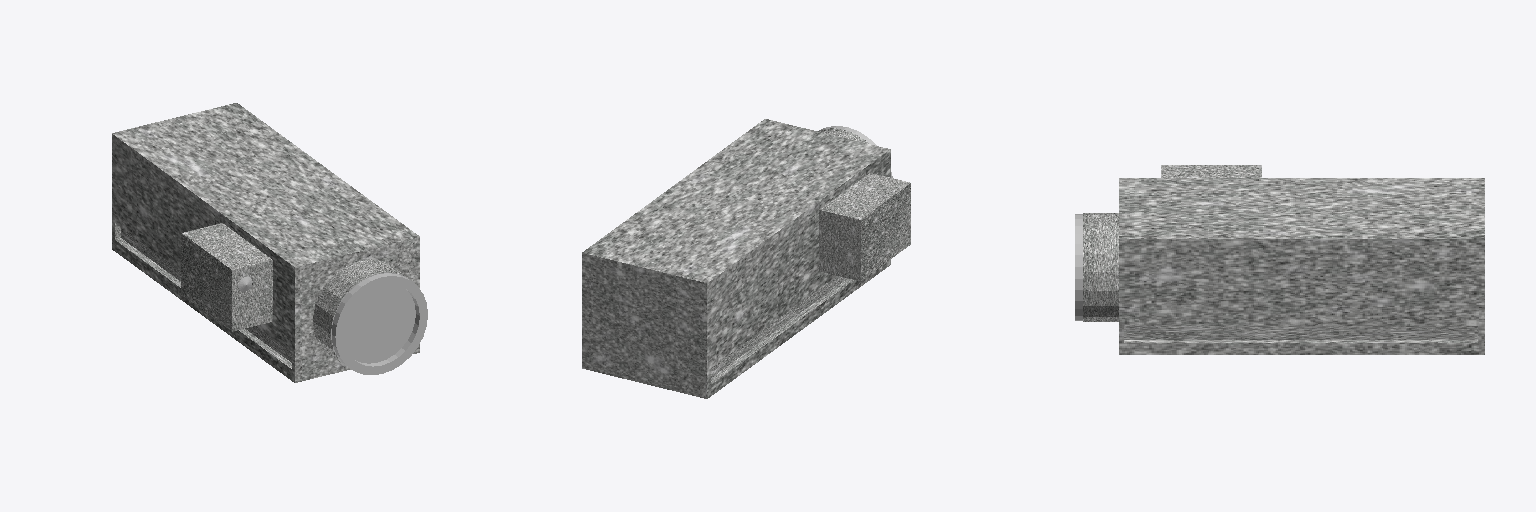
The picture shows the model from 3 angles: view 1: azimuth 30°, elevation 25°; view 2: azimuth 150°, elevation 25°; view 3: azimuth 270°, elevation 25°; orthographic projection.
Parts seen in each view (by area): view 1: Box01.004, Box01.002, Box01.006, Box01.001, Box01.005; view 2: Box01.004, Box01.002; view 3: Box01.004, Box01.005, Box01.002, Box01.001.
Part boxes in pixels (bbox=[...]): Box01.004: bbox=[112, 103, 419, 382]; Box01.002: bbox=[181, 223, 272, 331]; Box01.006: bbox=[331, 272, 415, 367]; Box01.001: bbox=[332, 273, 427, 374]; Box01.005: bbox=[313, 259, 411, 362]; Box01.004: bbox=[582, 119, 890, 398]; Box01.002: bbox=[819, 173, 910, 280]; Box01.004: bbox=[1119, 178, 1484, 354]; Box01.005: bbox=[1083, 213, 1118, 321]; Box01.002: bbox=[1161, 165, 1261, 177]; Box01.001: bbox=[1075, 214, 1082, 320].
Bounding box in the file's own units: 39.56 × 26.2 × 84.08.
5 materials, 1 textured.